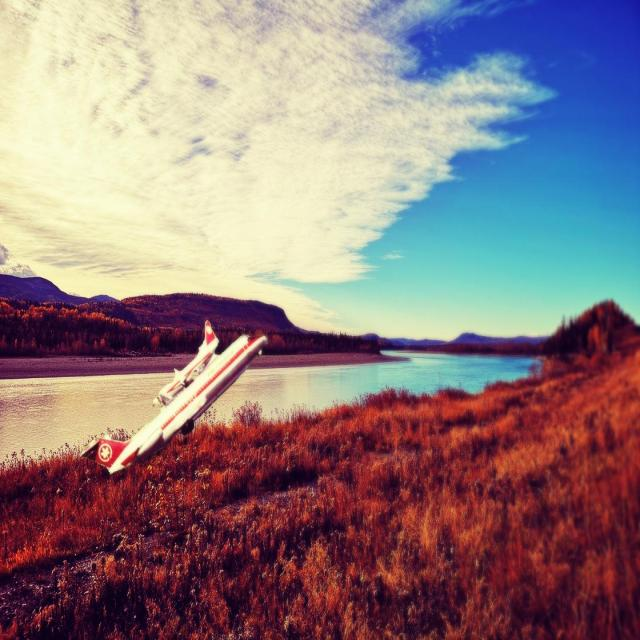airplane: (80, 318, 268, 476)
